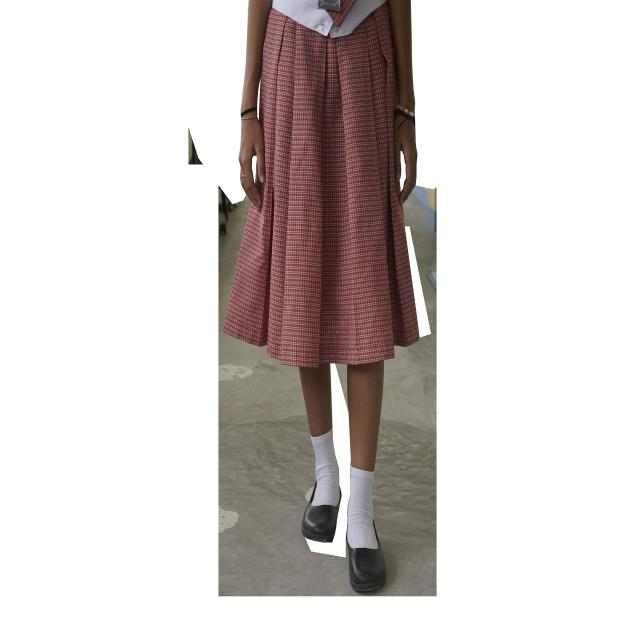shoes: (347, 523, 387, 592), (302, 502, 339, 543)
skirt: (224, 4, 419, 367)
